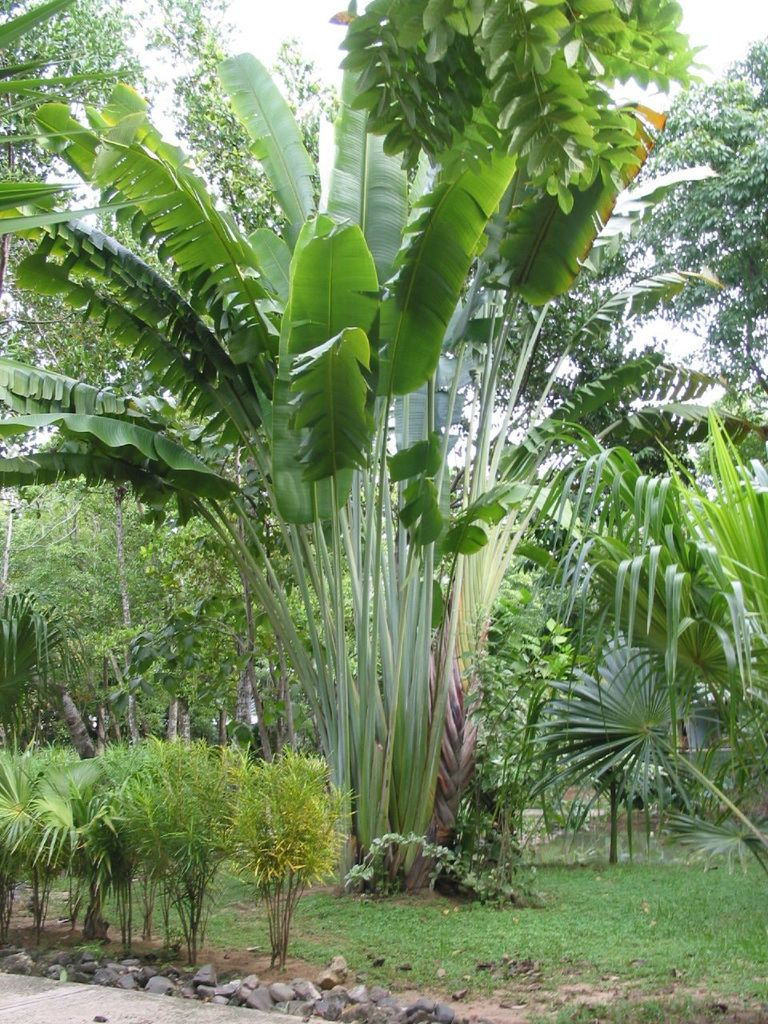Tree: (0, 0, 768, 895)
